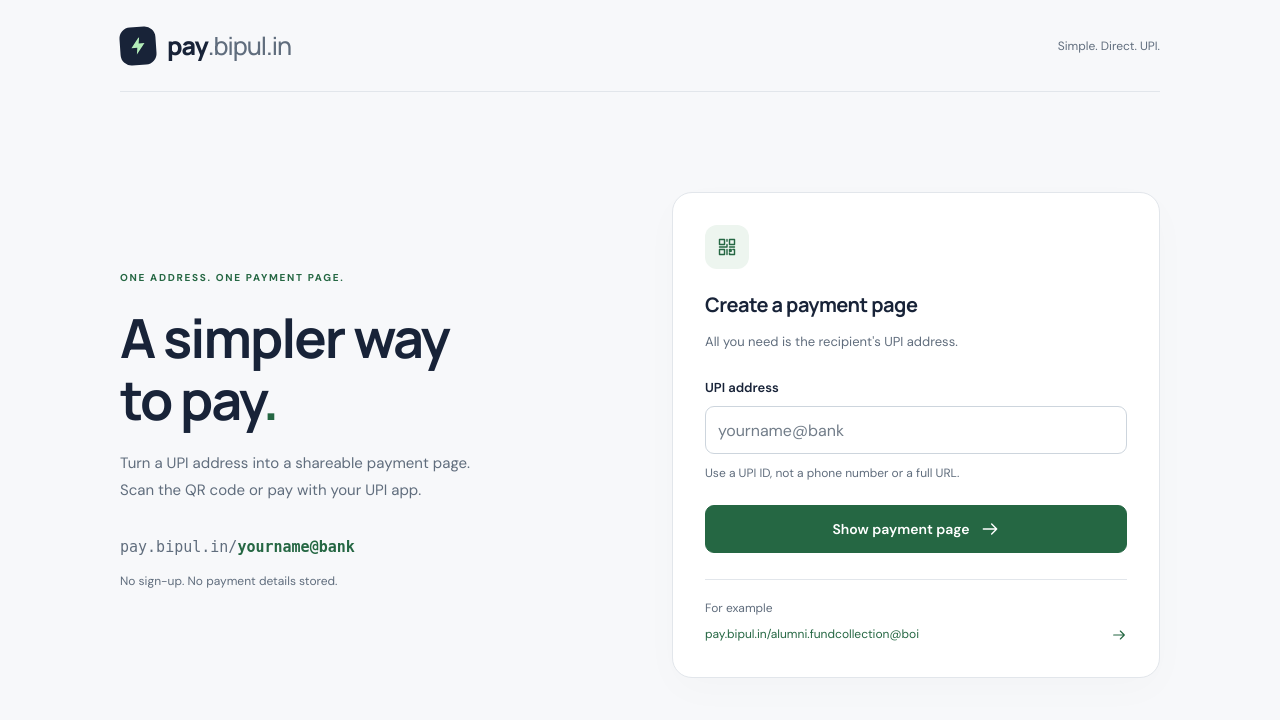
Test case: UPI address homepage › rejects invalid input invalid without creating a QR or navigating
This screenshot has width=1280, height=720.
Step 1. Type "invalid" into the field labelled "UPI address" → (916, 430), box [705,406,1127,454]
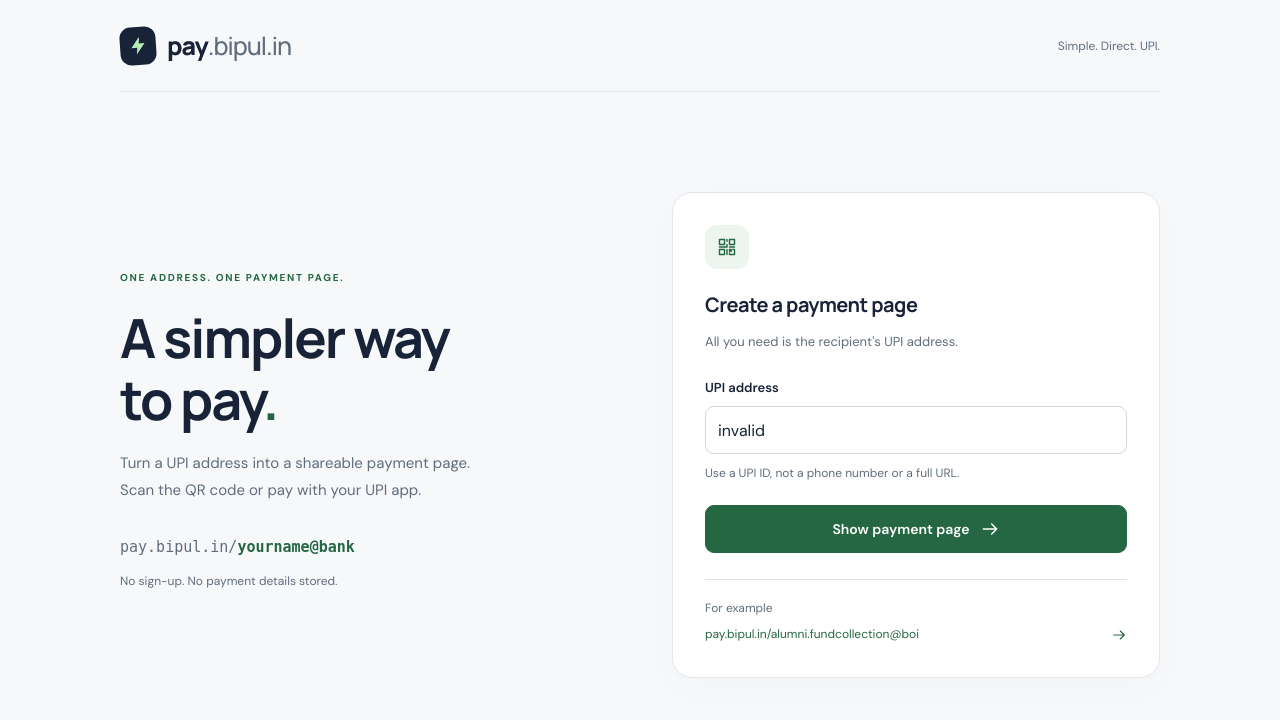
Step 2. Click the button "Show payment page" → (916, 530), box [705,506,1127,554]
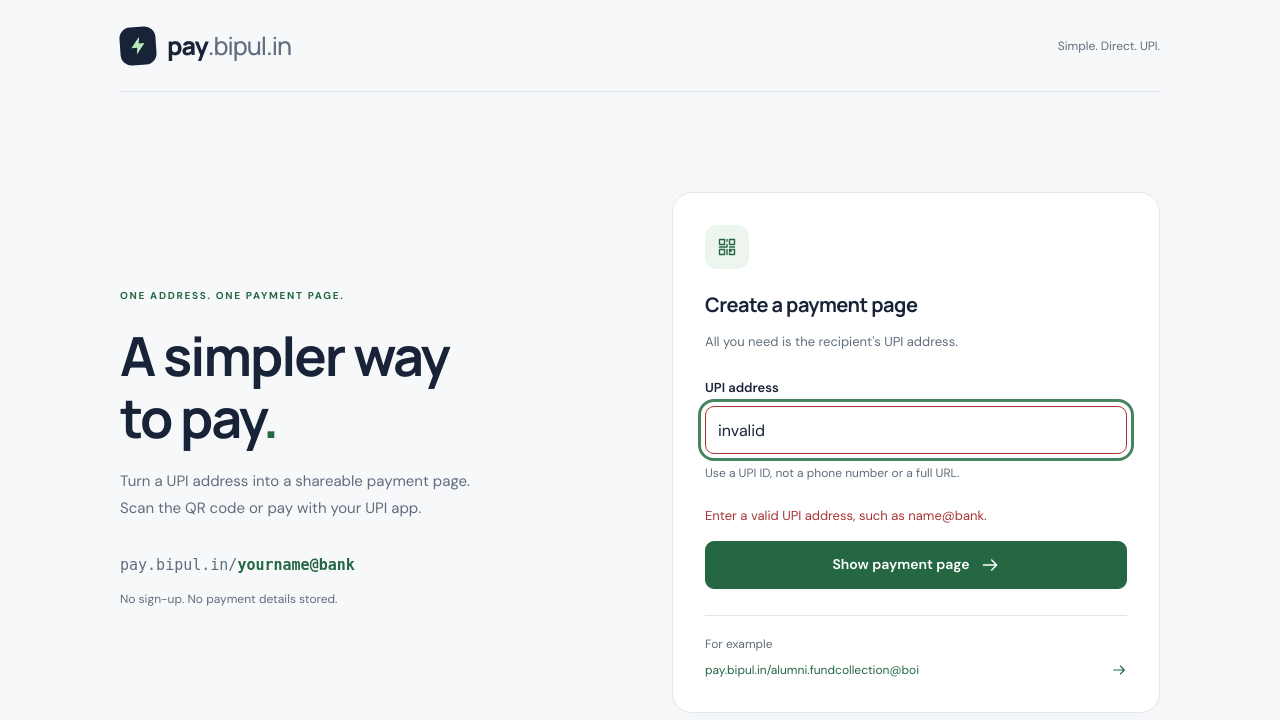
Now the message shows "Enter a valid UPI address", box [705,508,987,524]
